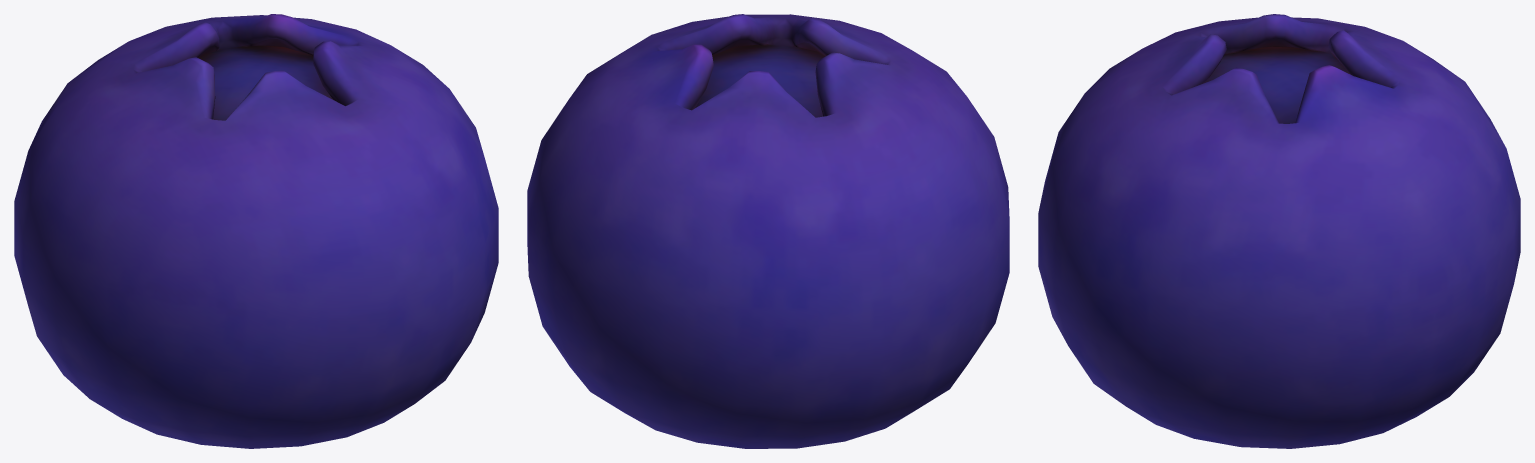
The model's file is m_dlc5_ingredients_blueberry_01.fbx.
The picture shows the model from 3 angles, left to right: view 1: azimuth 30°, elevation 25°; view 2: azimuth 150°, elevation 25°; view 3: azimuth 270°, elevation 25°; orthographic projection.
Visible parts, largest first — view 1: m_dlc5_ingredients_blueberry_01; view 2: m_dlc5_ingredients_blueberry_01; view 3: m_dlc5_ingredients_blueberry_01.
Boxes of the visible parts, x1=… form: m_dlc5_ingredients_blueberry_01: x1=14, y1=14, x2=498, y2=448; m_dlc5_ingredients_blueberry_01: x1=527, y1=14, x2=1009, y2=448; m_dlc5_ingredients_blueberry_01: x1=1038, y1=14, x2=1520, y2=448.
Bounding box in the file's own units: 79.42 × 64.97 × 79.42.
Materials: 1 (1 with a texture image).
